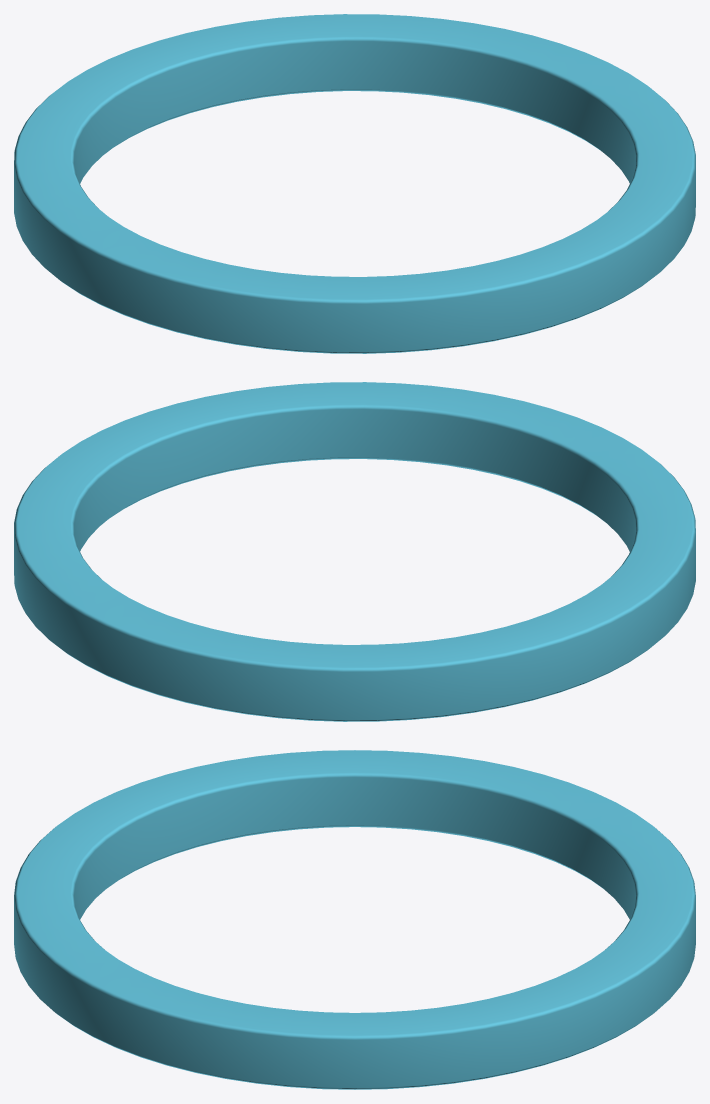
3 views of the same model, one above another, from view 1: azimuth 30°, elevation 25°; view 2: azimuth 150°, elevation 25°; view 3: azimuth 270°, elevation 25° (orthographic).
Parts seen in each view (by area): view 1: seal_body; view 2: seal_body; view 3: seal_body.
Part boxes in pixels (x1=…): seal_body: x1=14, y1=14, x2=695, y2=353; seal_body: x1=14, y1=382, x2=695, y2=721; seal_body: x1=14, y1=750, x2=695, y2=1089.
Size of the model in its own units: 0.108 by 0.00952 by 0.108.
